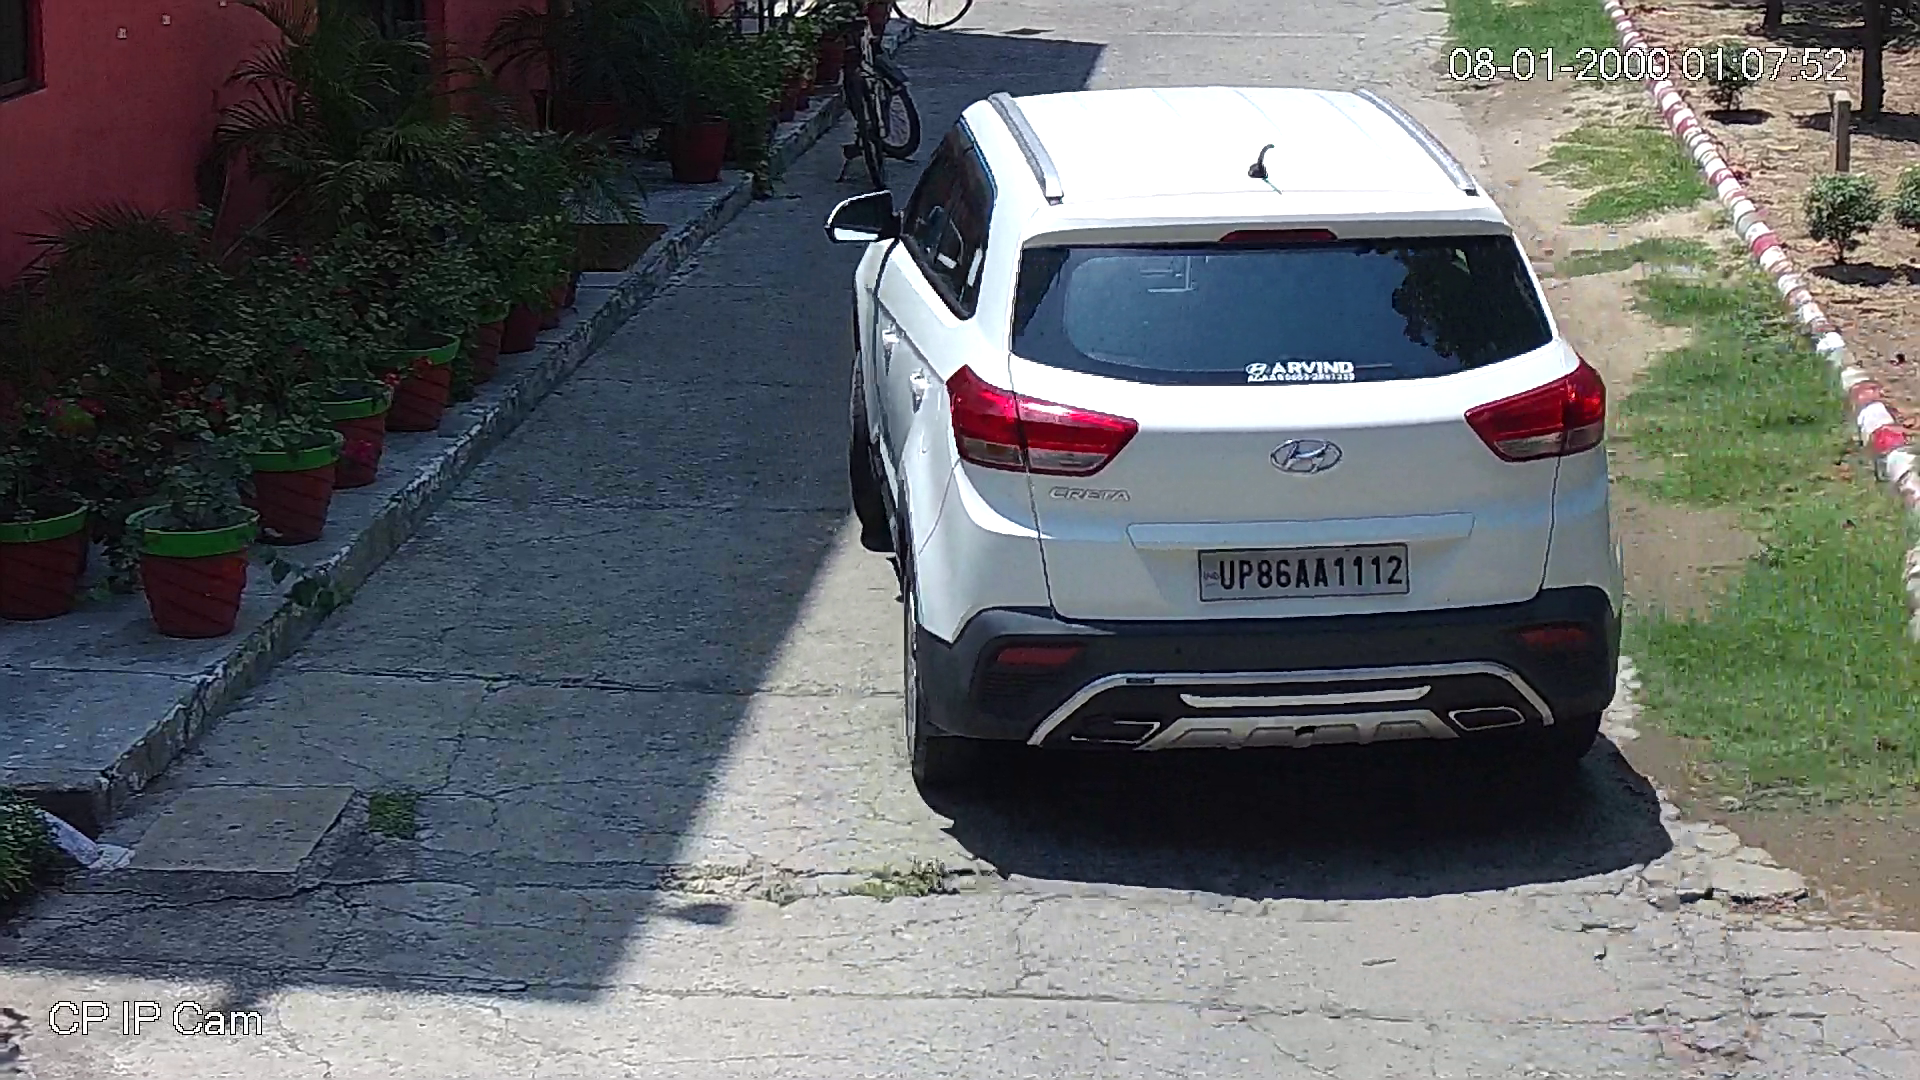plate: (1188, 536, 1420, 609)
